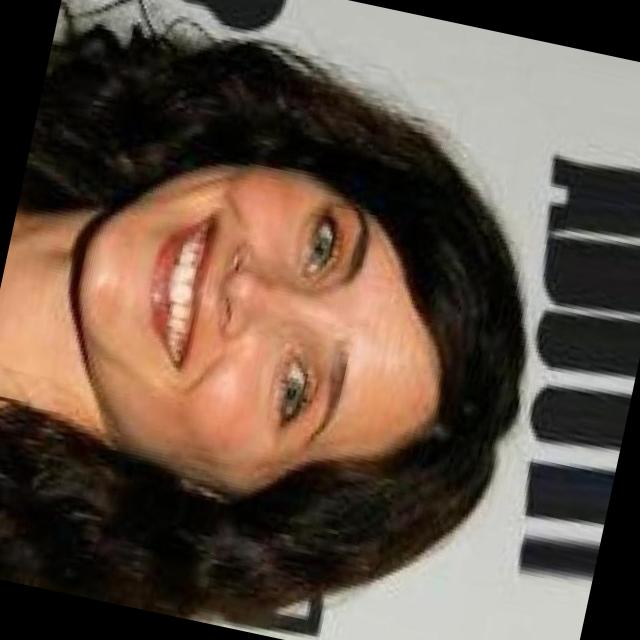bareface: (0, 110, 528, 624)
